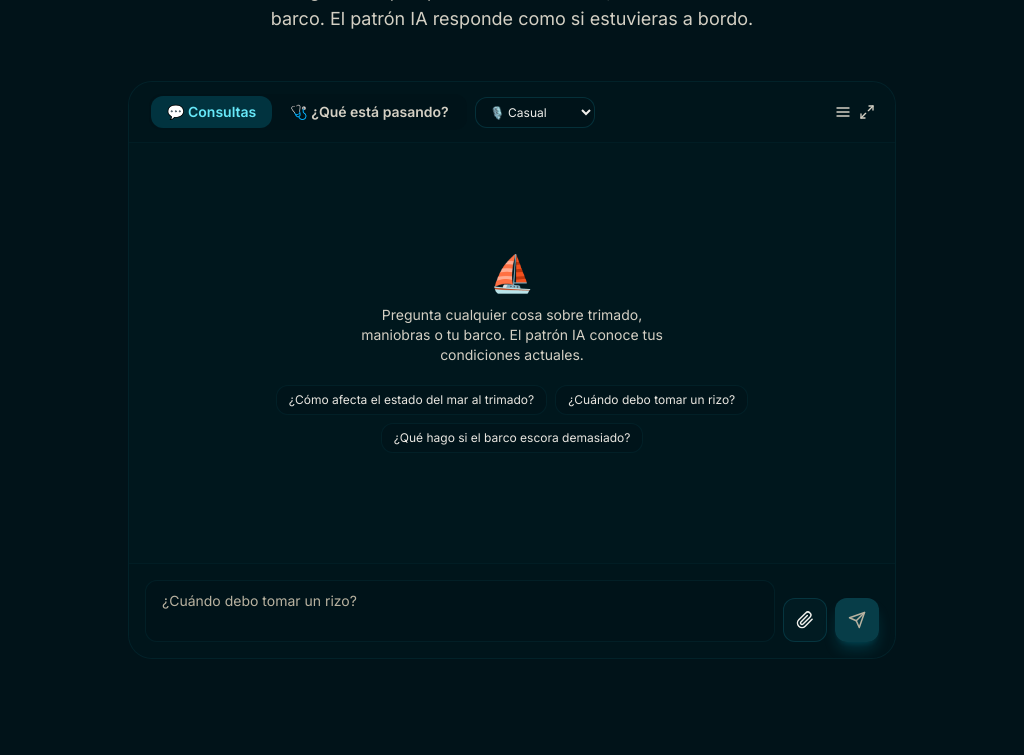
it: ChatPanel › sends a message and renders the user and assistant messages
(page scrolled)
In the text box: (460, 611) [145, 580, 775, 642], type "¿cómo trimo?"
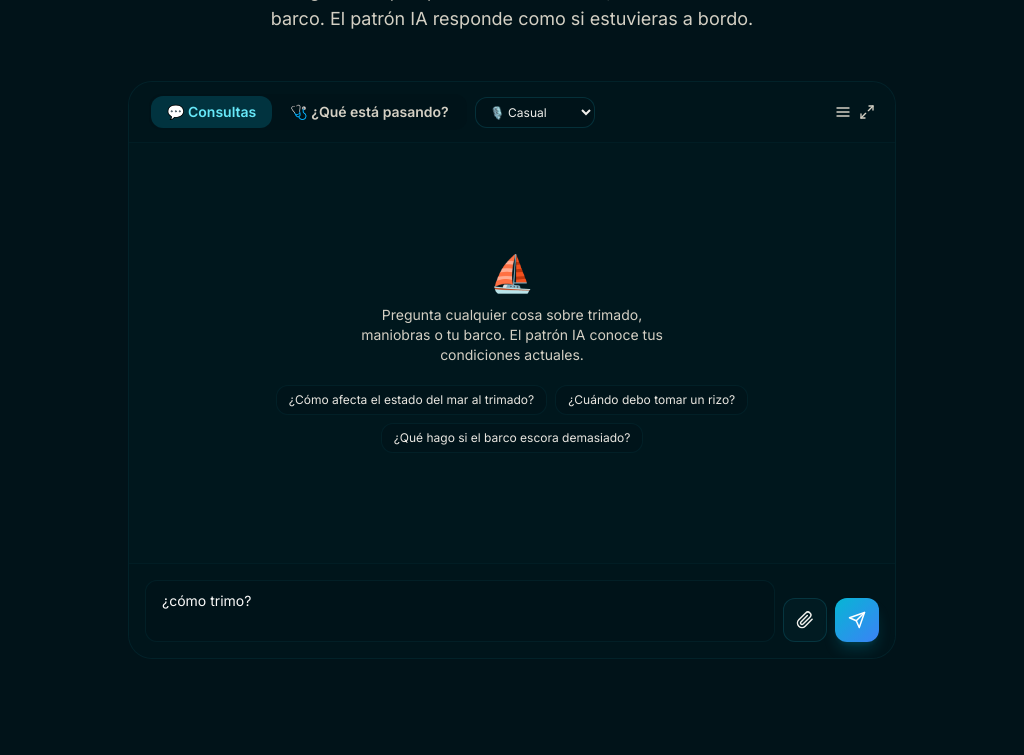
Click the button named "Enviar mensaje": (857, 620) [835, 598, 879, 642]
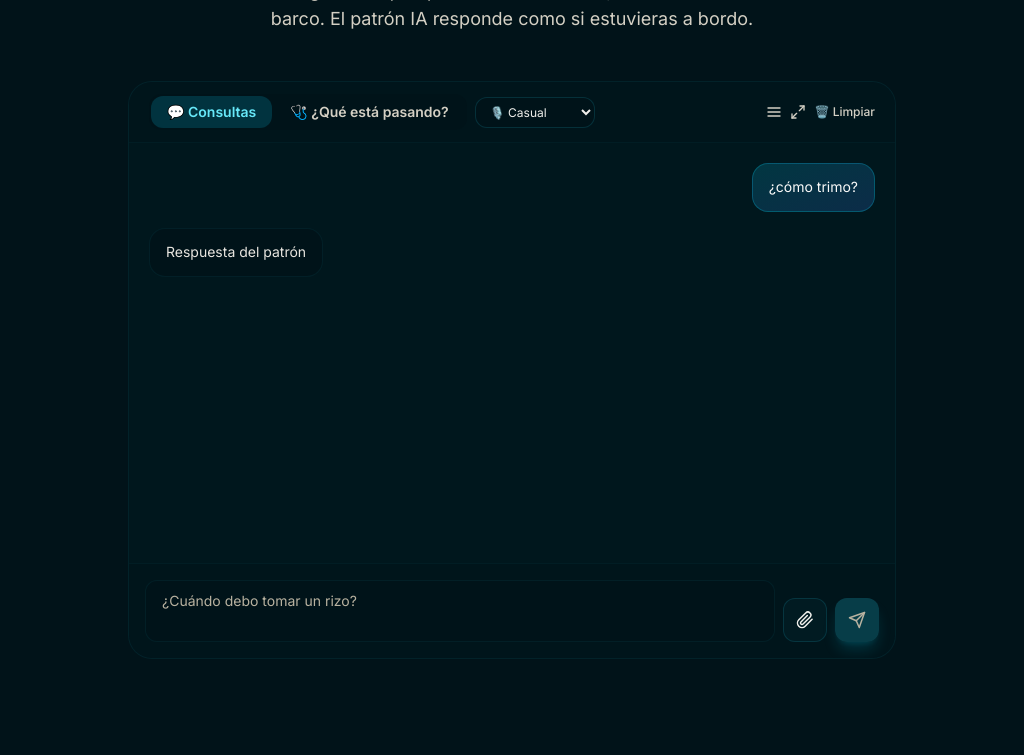
Expected: the text "¿cómo trimo?" is shown, [769, 176, 858, 199]
